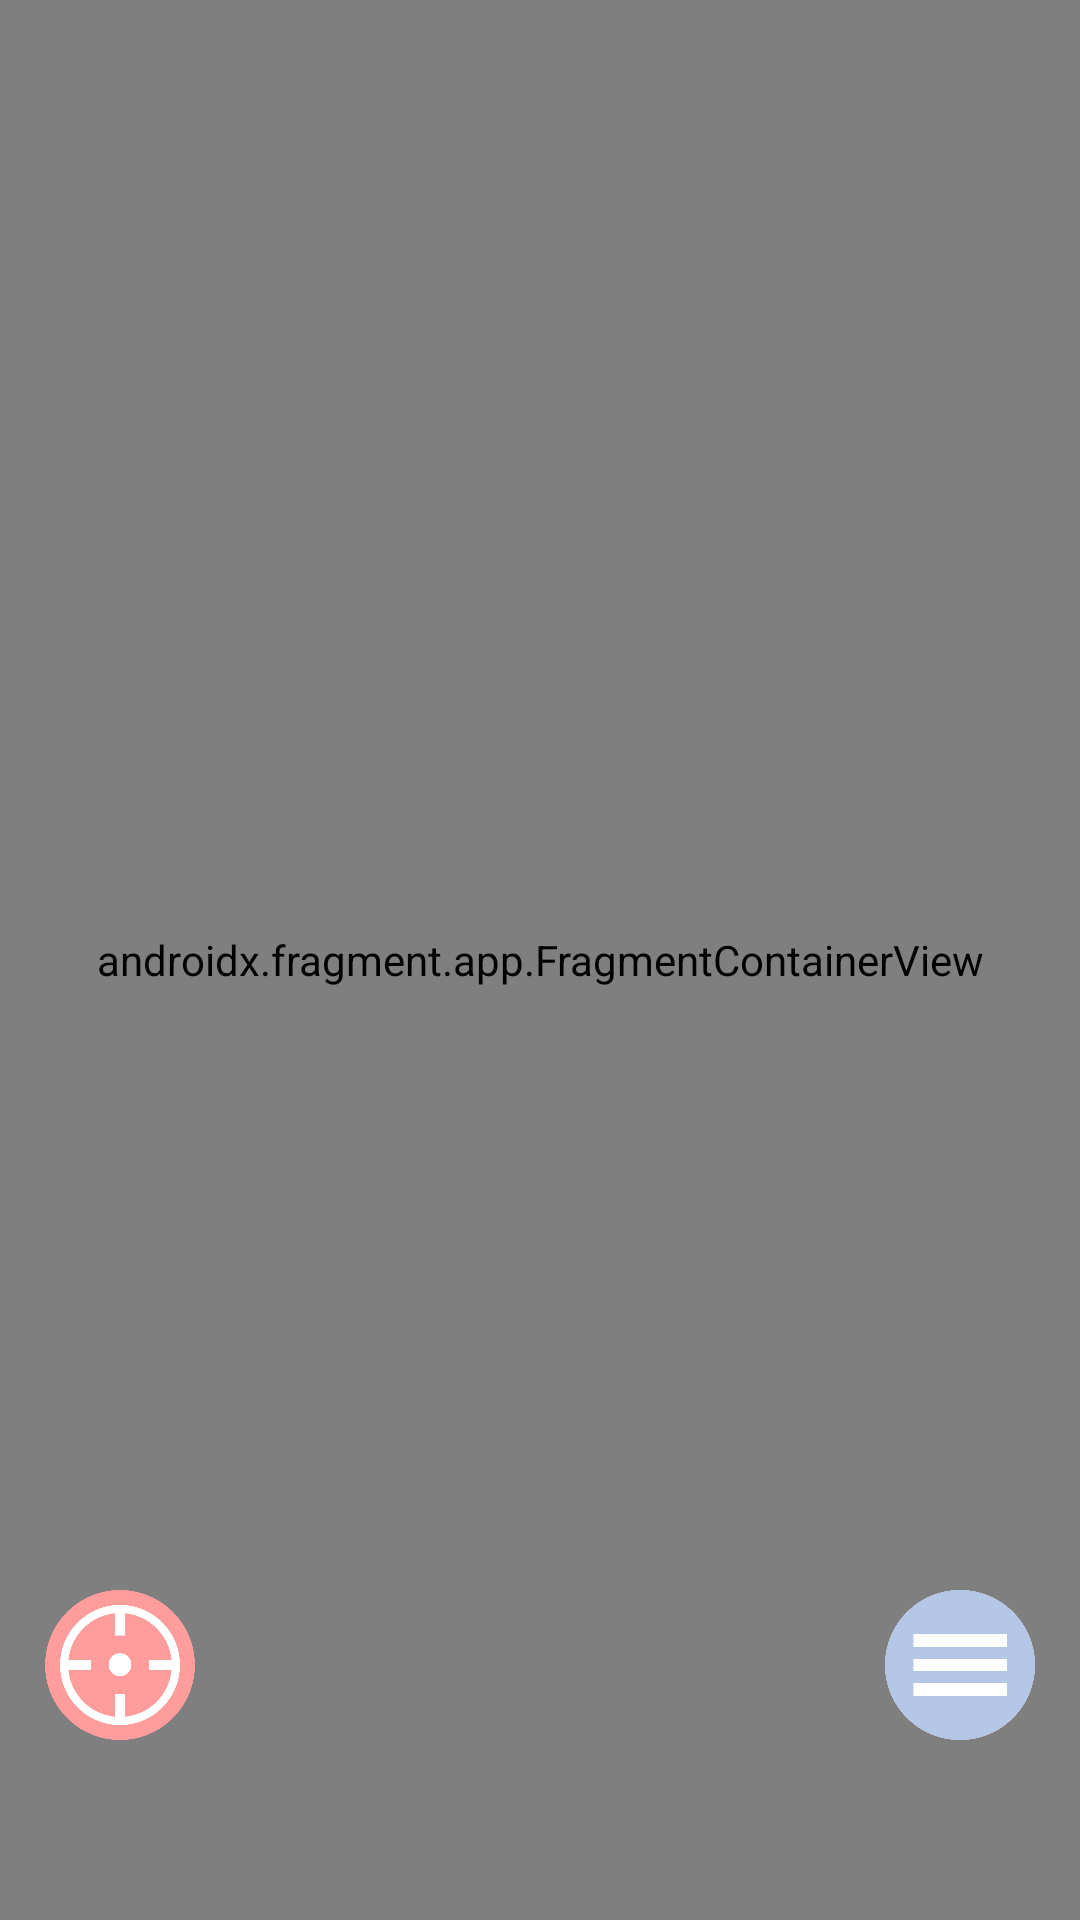

Where icons sit on this 1080px x 1920px app screen, as detection(x1, y1, x2, y2):
current loction: detection(45, 1590, 195, 1740)
